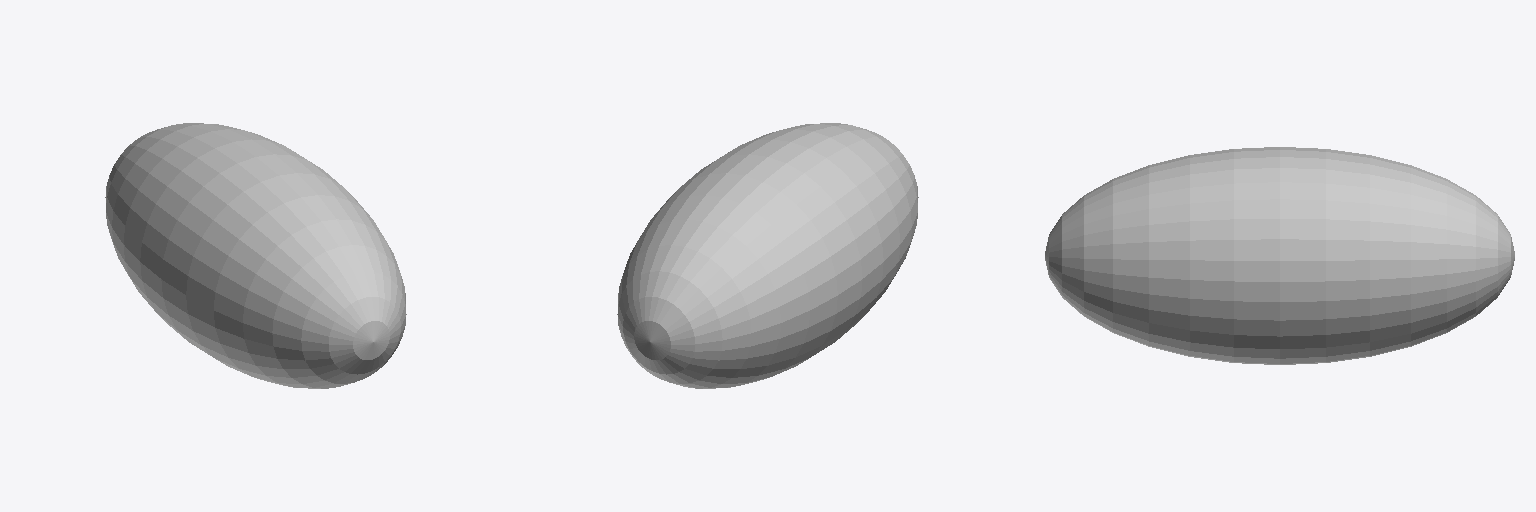
Rendered from Projectile.obj.
3 renders of one model, left to right at view 1: azimuth 30°, elevation 25°; view 2: azimuth 150°, elevation 25°; view 3: azimuth 270°, elevation 25°, orthographic.
Visible parts, largest first — view 1: Sphere; view 2: Sphere; view 3: Sphere.
Part boxes in pixels (x1,y1,x2,y2): Sphere: (105,123,406,388); Sphere: (617,123,918,388); Sphere: (1045,147,1514,364).
Size of the model in its own units: 2 by 2 by 4.31.